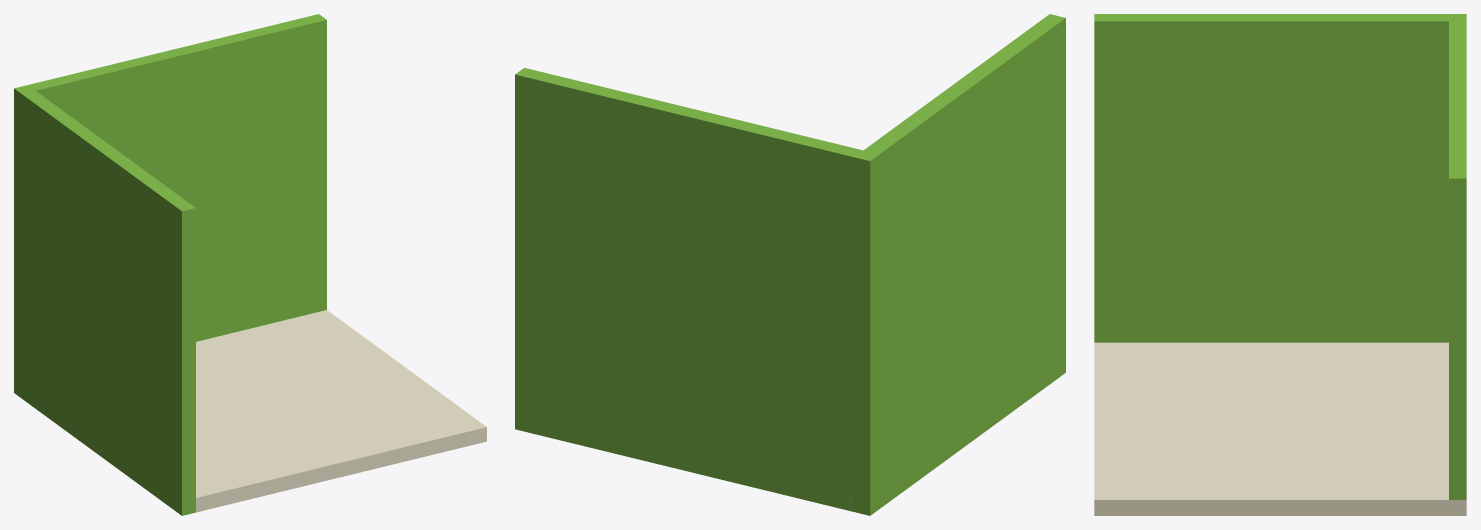
File: room_green.glb
The picture shows the model from 3 angles, left to right: view 1: azimuth 30°, elevation 25°; view 2: azimuth 150°, elevation 25°; view 3: azimuth 270°, elevation 25°; orthographic projection. The views are drawn at different scales.
Parts seen in each view (by area): view 1: wall, wall002, Object001; view 2: wall002, wall; view 3: wall, Object001, wall002.
Boxes of the visible parts, x1,y1,x2,y2 form: wall: [14, 85, 195, 515]; wall002: [28, 14, 326, 341]; Object001: [196, 310, 486, 512]; wall002: [515, 68, 862, 511]; wall: [854, 14, 1065, 515]; wall: [1094, 14, 1466, 342]; Object001: [1094, 342, 1466, 515]; wall002: [1449, 21, 1466, 499].
Bounding box in the file's own units: 0.44 × 0.42 × 0.42.
Materials: 1 (1 with a texture image).
